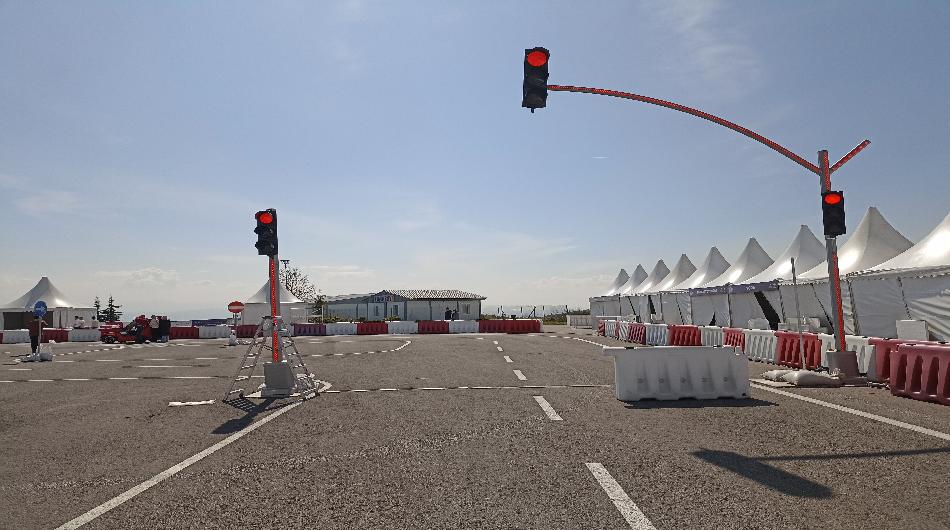red_light: (522, 42, 553, 115), (819, 190, 854, 240), (254, 205, 284, 261)
